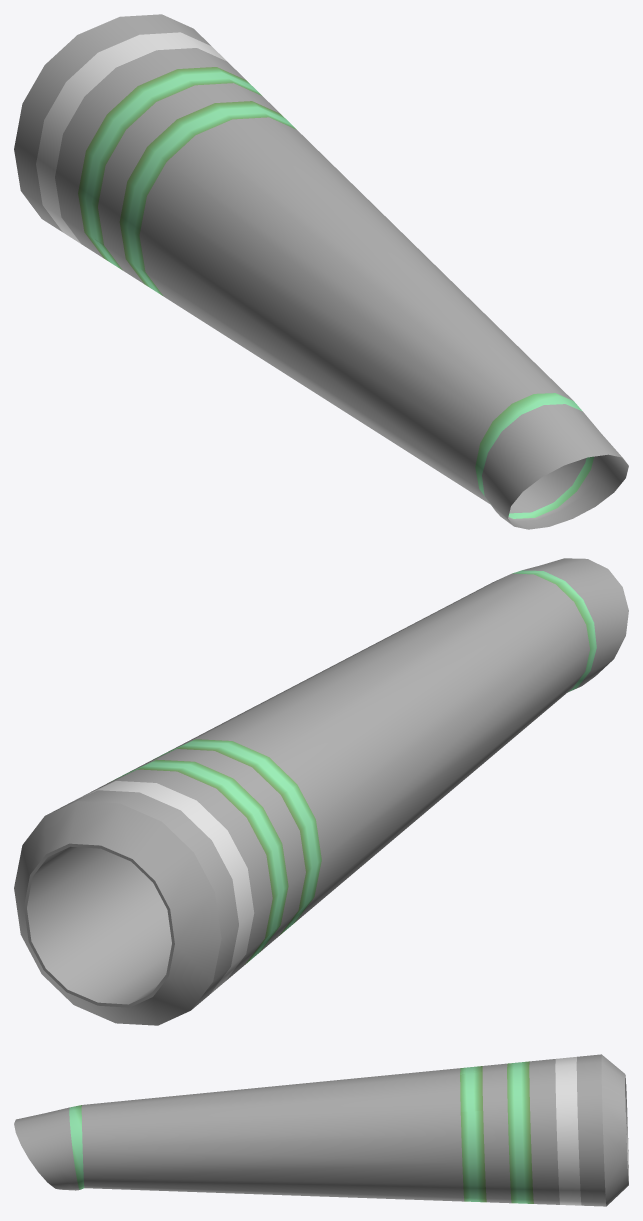
File: InputSocket2.fbx
3 views of the same model, one above another, from view 1: azimuth 30°, elevation 25°; view 2: azimuth 150°, elevation 25°; view 3: azimuth 270°, elevation 25° (orthographic). The views are drawn at different scales.
Parts seen in each view (by area): view 1: Socket; view 2: Socket; view 3: Socket.
Boxes of the visible parts, left/top/right/bottom form: Socket: left=14, top=14, right=628, bottom=529; Socket: left=14, top=558, right=628, bottom=1025; Socket: left=14, top=1054, right=628, bottom=1206.
Bounding box in the file's own units: 0.7468 × 0.7464 × 3.05.
